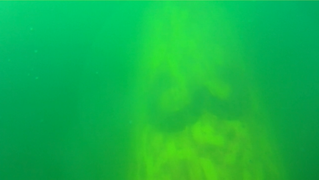3: (144, 63, 252, 132)
pipe: (127, 1, 287, 179)
